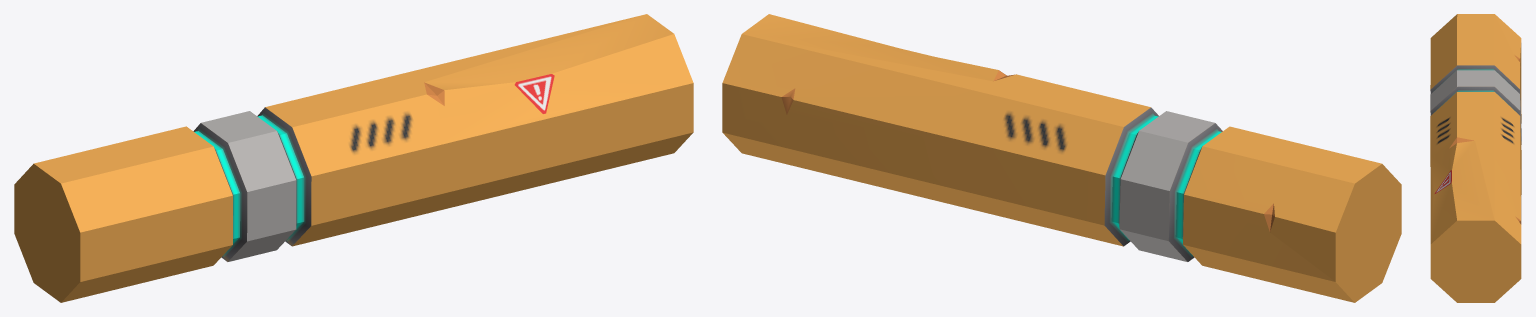
The model's file is SM_Bld_Pipe_Small_01.fbx.
The picture shows the model from 3 angles, left to right: view 1: azimuth 30°, elevation 25°; view 2: azimuth 150°, elevation 25°; view 3: azimuth 270°, elevation 25°; orthographic projection. The views are drawn at different scales.
Visible parts, largest first — view 1: SM_Bld_Pipe_Small_01; view 2: SM_Bld_Pipe_Small_01; view 3: SM_Bld_Pipe_Small_01.
Part boxes in pixels (bbox=[...]): SM_Bld_Pipe_Small_01: bbox=[14, 14, 693, 302]; SM_Bld_Pipe_Small_01: bbox=[722, 14, 1401, 302]; SM_Bld_Pipe_Small_01: bbox=[1430, 14, 1521, 302].
Size of the model in its own units: 250 by 46.55 by 46.55.
